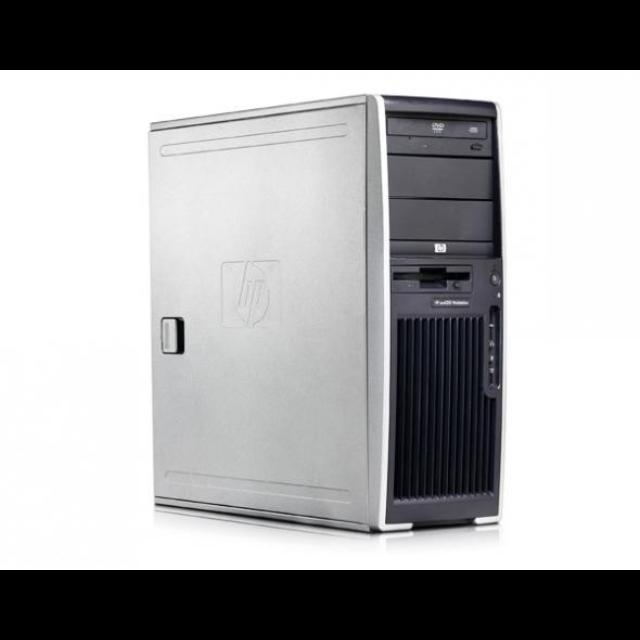Desktop-PC: (138, 92, 524, 536)
